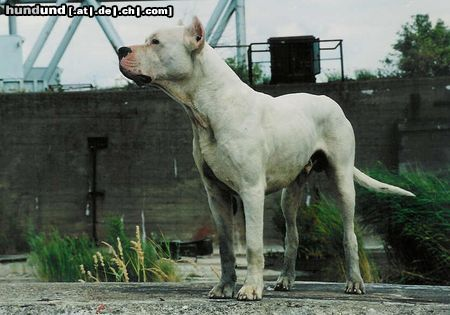dogo_argentino: (117, 15, 416, 301)
